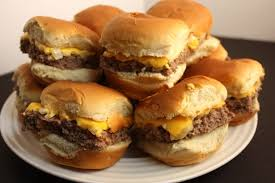hamburger: (30, 75, 135, 173), (139, 77, 228, 164), (100, 10, 189, 91), (18, 13, 103, 83)
